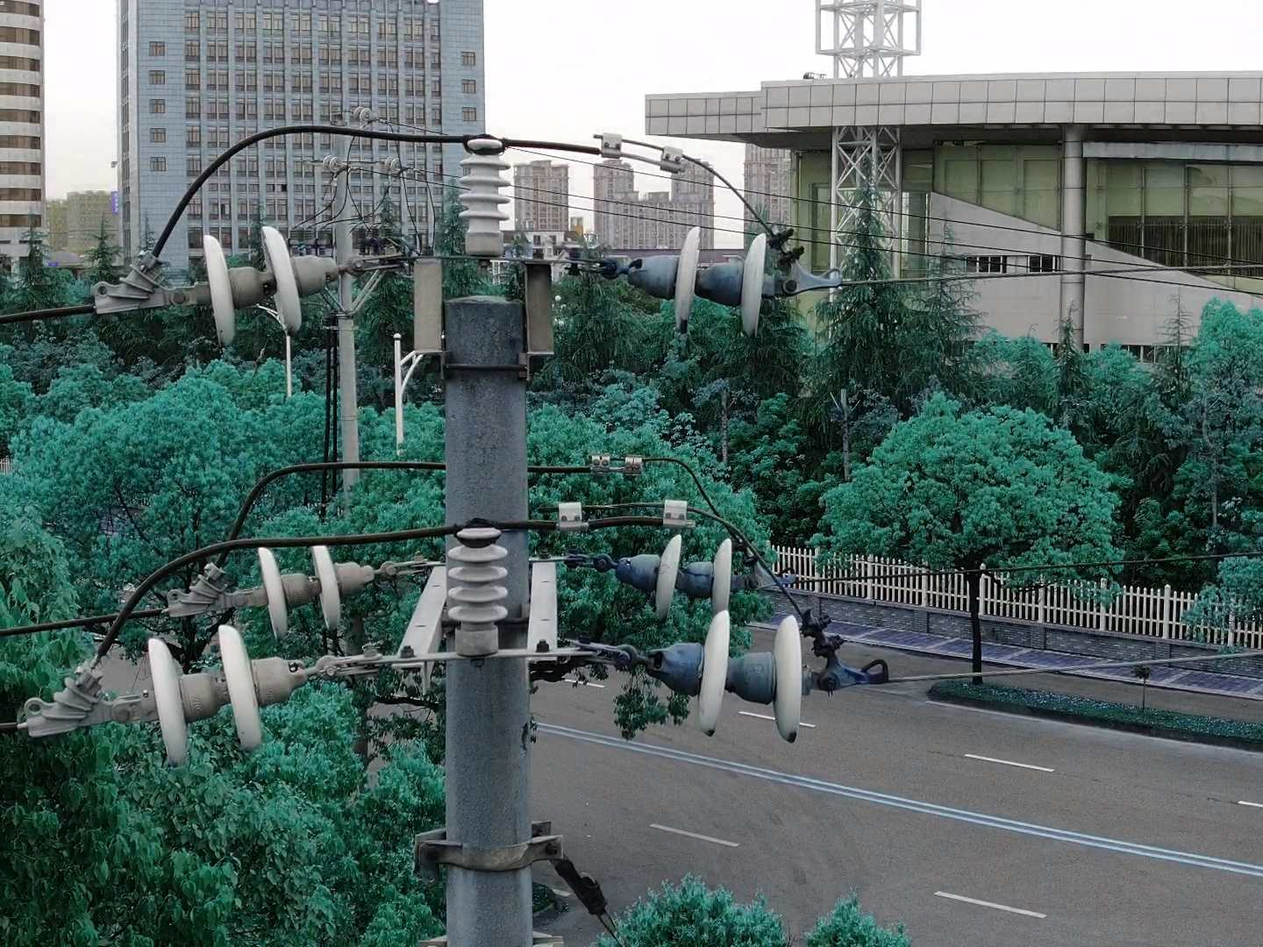severe_soiling_no_discharge_whole: (622, 212, 775, 348)
